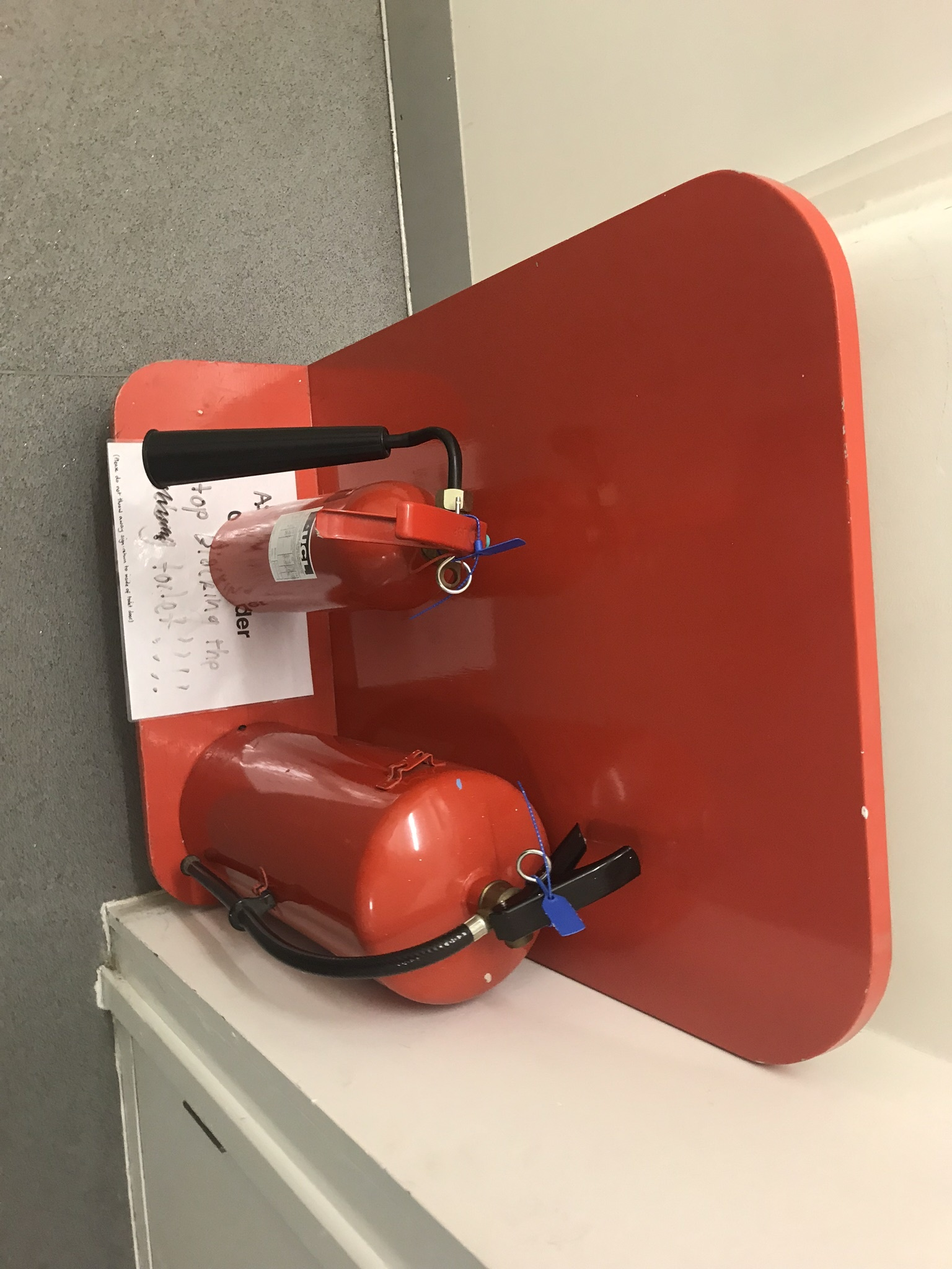fire_extinguisher: (106, 169, 892, 1065), (141, 424, 526, 618)
